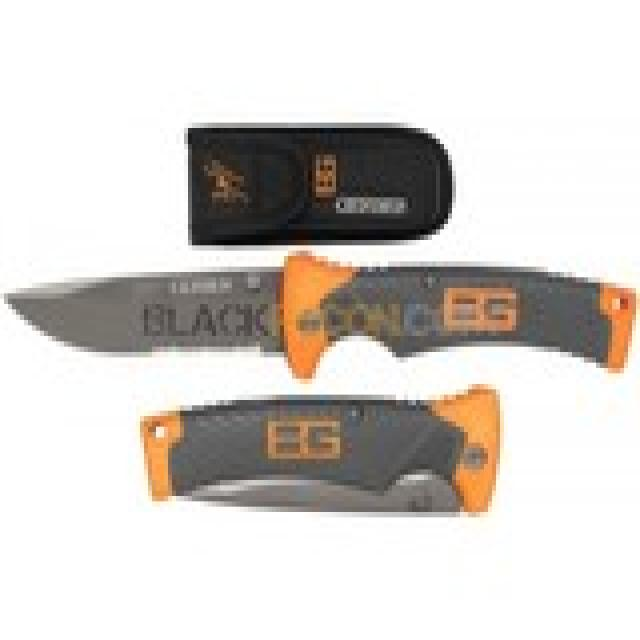Knife: (0, 272, 640, 376), (121, 396, 530, 526)
